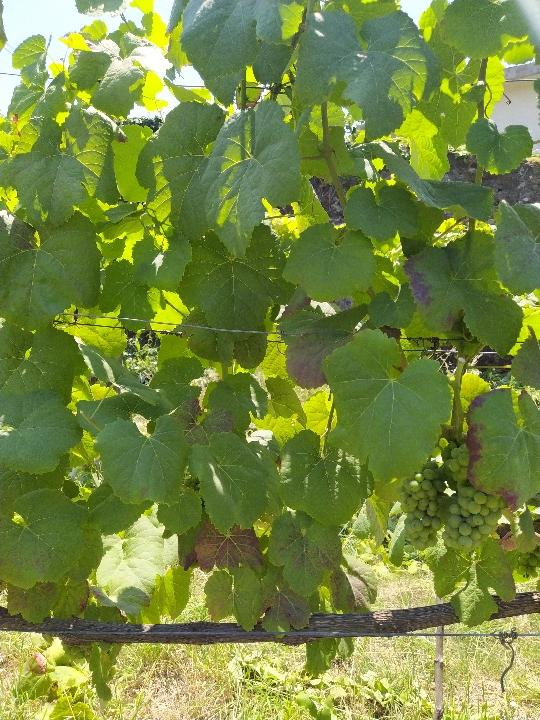grape: (441, 441, 508, 553), (399, 459, 442, 552)
